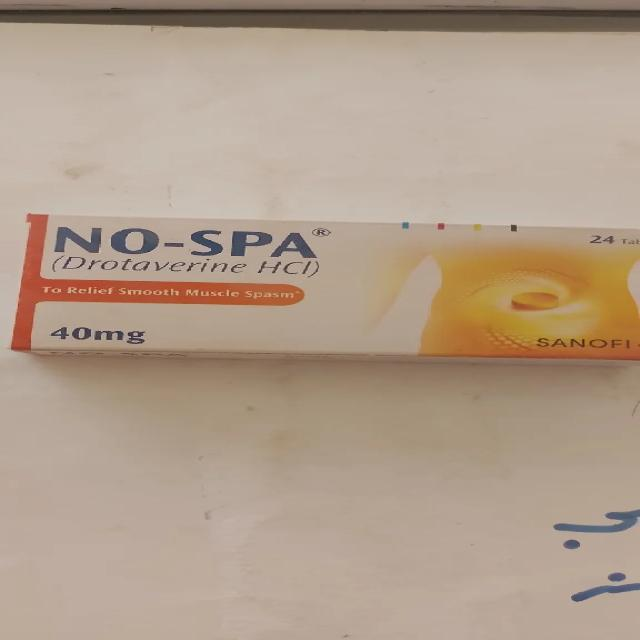drug-name: (56, 224, 322, 260)
